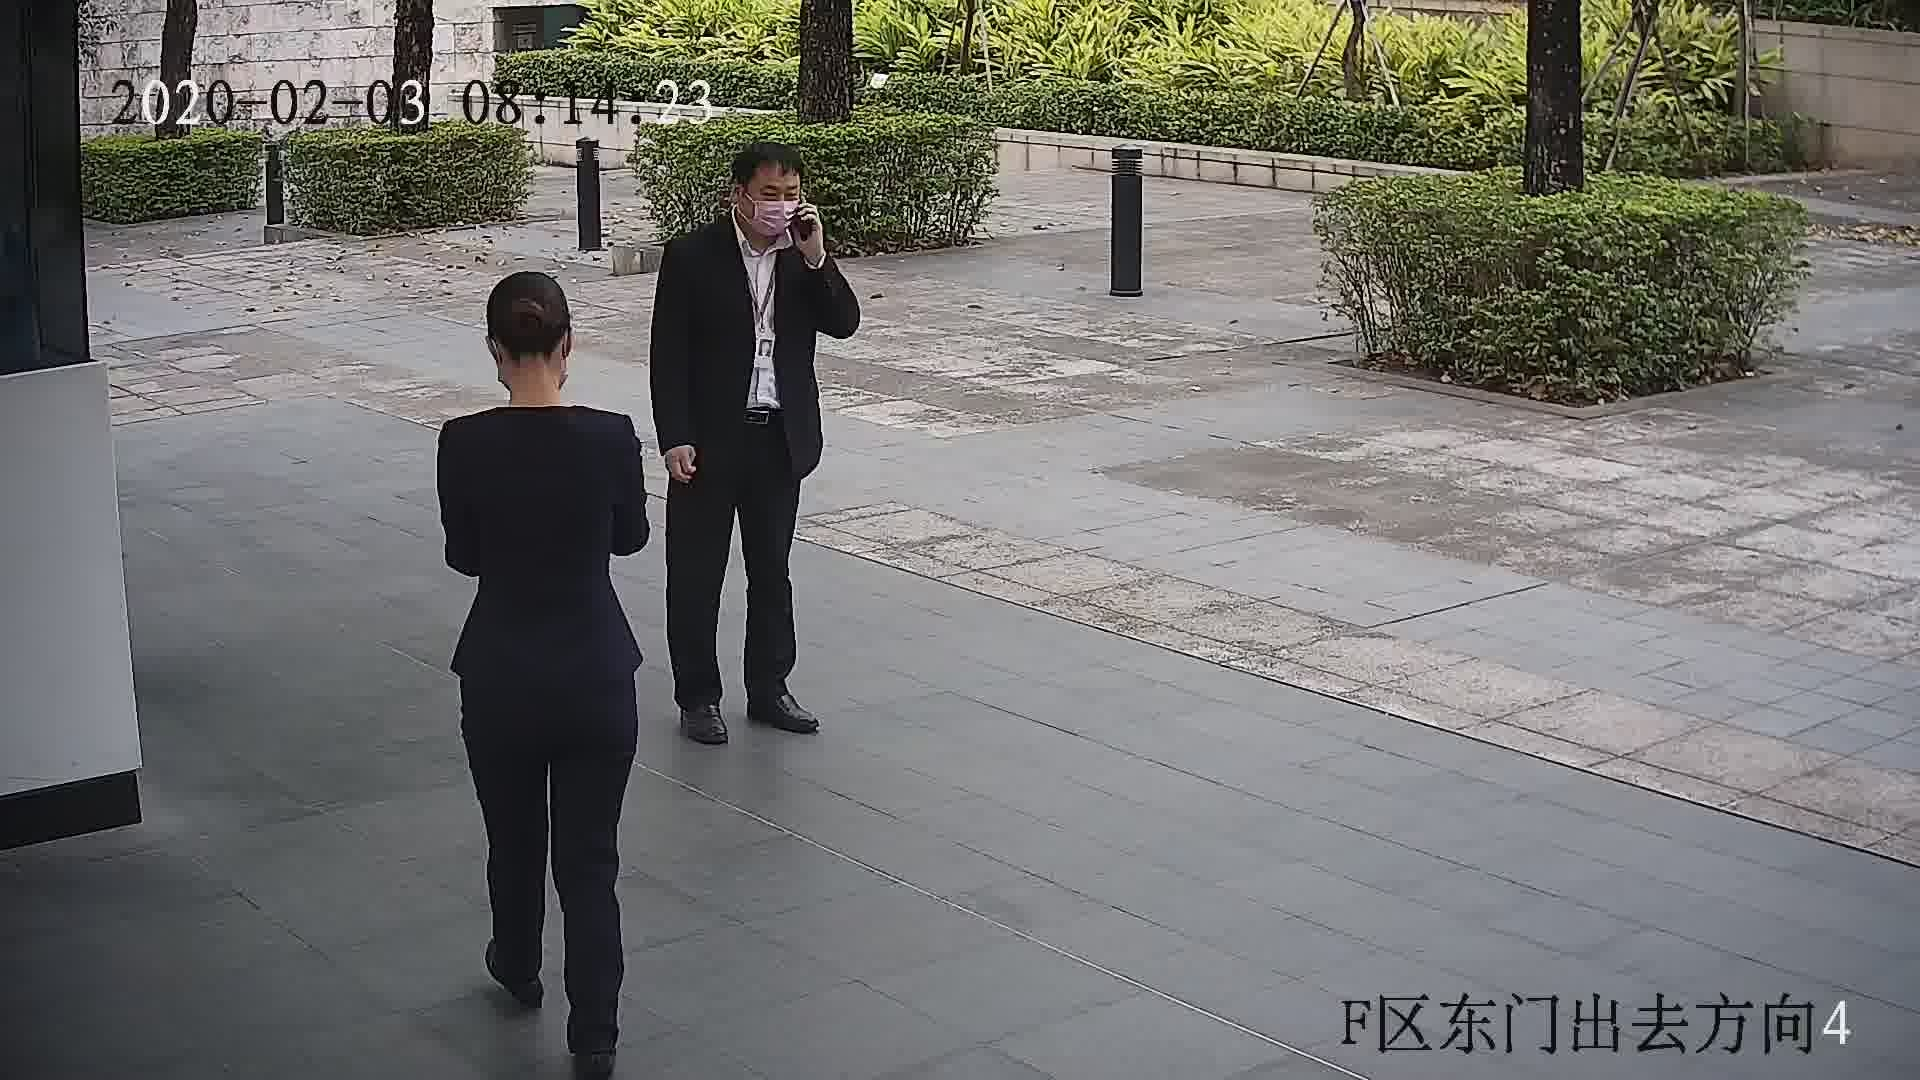face: (739, 163, 803, 240)
mask: (746, 192, 799, 240)
person: (440, 270, 637, 486), (662, 141, 829, 282)
